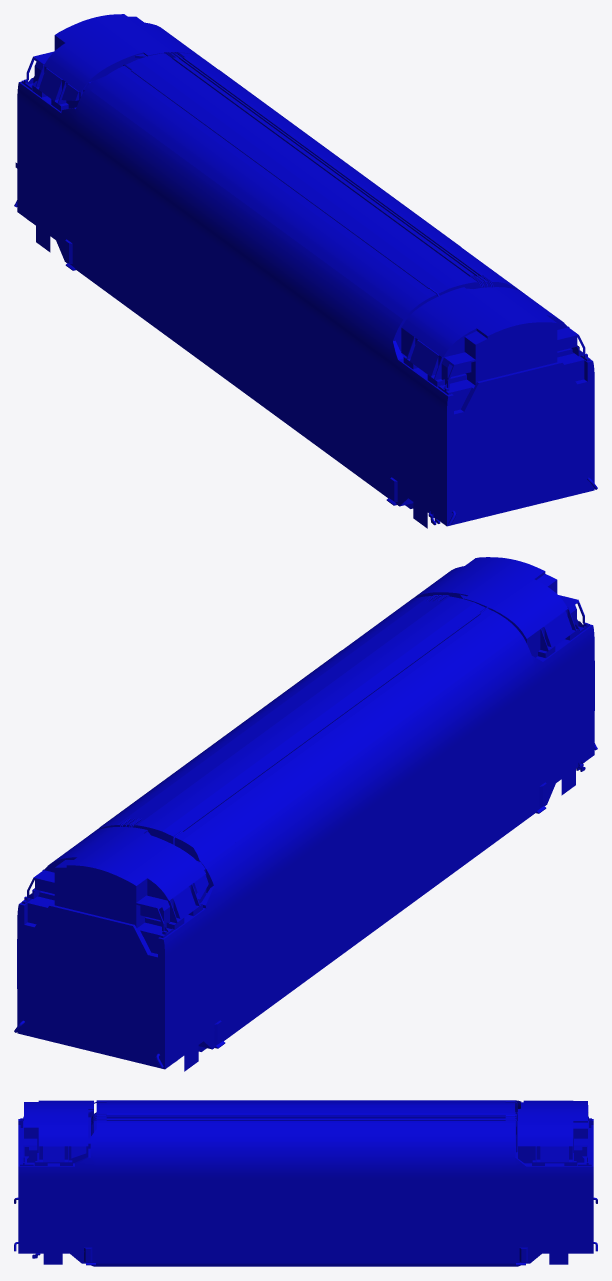
3 views of the same model, one above another, from view 1: azimuth 30°, elevation 25°; view 2: azimuth 150°, elevation 25°; view 3: azimuth 270°, elevation 25° (orthographic). The views are drawn at different scales.
Visible parts, largest first — view 1: omneo 7.005Regio 2N STIF 8-car; view 2: omneo 7.005Regio 2N STIF 8-car; view 3: omneo 7.005Regio 2N STIF 8-car.
Boxes of the visible parts, x1,y1,x2,y2 form: omneo 7.005Regio 2N STIF 8-car: (14, 14, 597, 528); omneo 7.005Regio 2N STIF 8-car: (14, 557, 597, 1071); omneo 7.005Regio 2N STIF 8-car: (14, 1100, 597, 1266).
Size of the model in its own units: 3.08 by 4.32 by 15.27.
